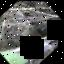Morning glory: (0, 4, 61, 64)
